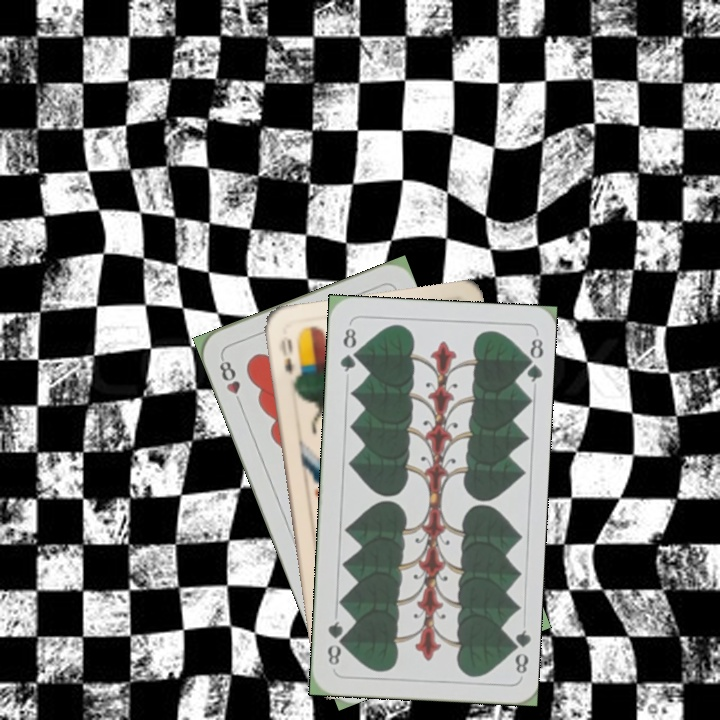EO: (275, 332, 296, 378)
G8: (504, 626, 532, 676), (336, 324, 360, 375)
H8: (215, 353, 246, 410)
